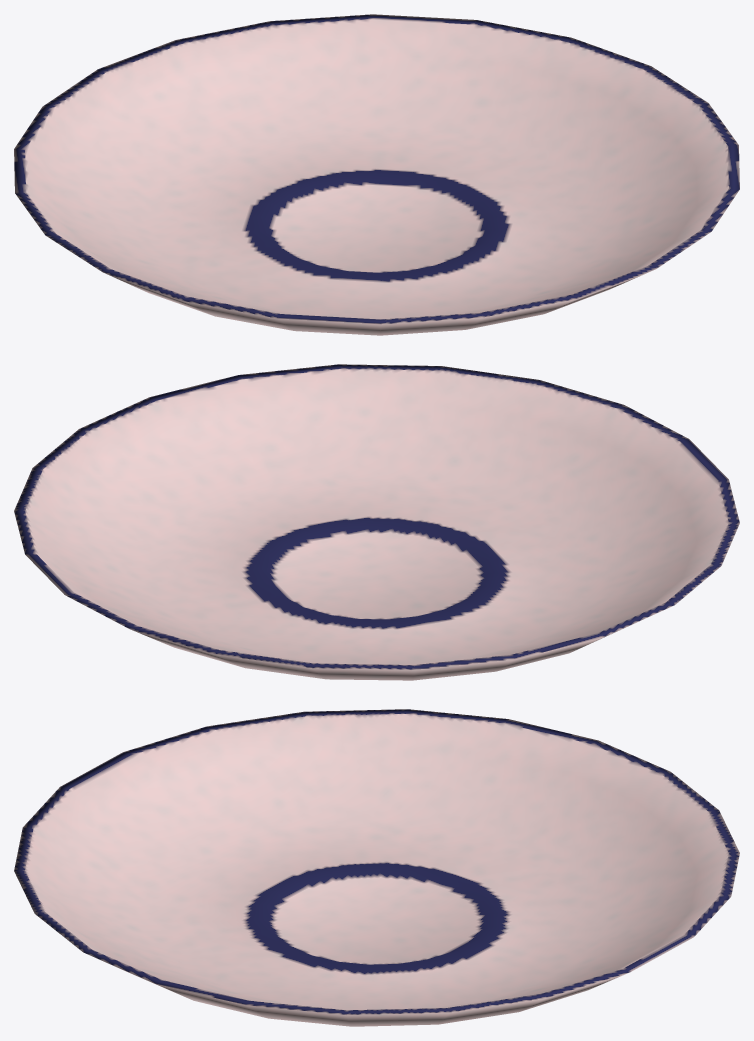
The model's file is tarel.fbx.
3 renders of one model, top to bottom at view 1: azimuth 30°, elevation 25°; view 2: azimuth 150°, elevation 25°; view 3: azimuth 270°, elevation 25°, orthographic.
Visible parts, largest first — view 1: Cube_17_low; view 2: Cube_17_low; view 3: Cube_17_low.
Boxes of the visible parts, x1,y1,x2,y2 form: Cube_17_low: (14,14,739,335); Cube_17_low: (14,364,739,680); Cube_17_low: (14,709,739,1026).
Size of the model in its own units: 151 by 14.93 by 151.
